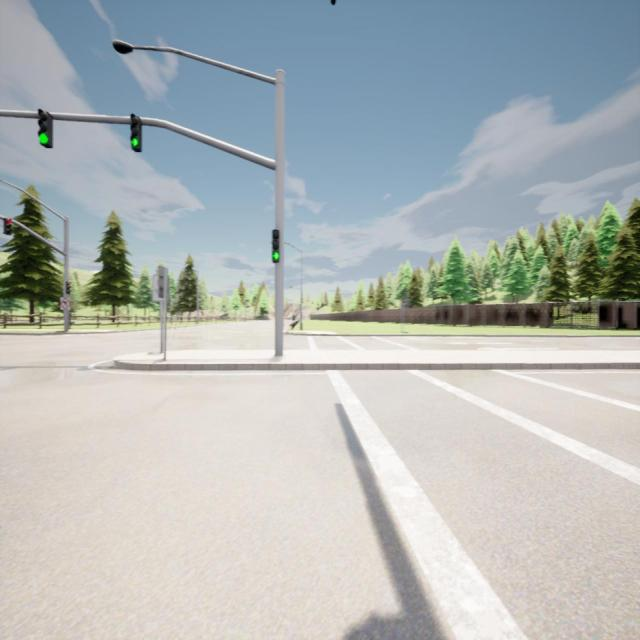Traffic_Signs: (151, 274, 169, 302), (60, 296, 72, 314)
traffic_light: (36, 107, 53, 148), (130, 114, 142, 153), (271, 230, 280, 263), (4, 218, 10, 236), (65, 280, 71, 297)
